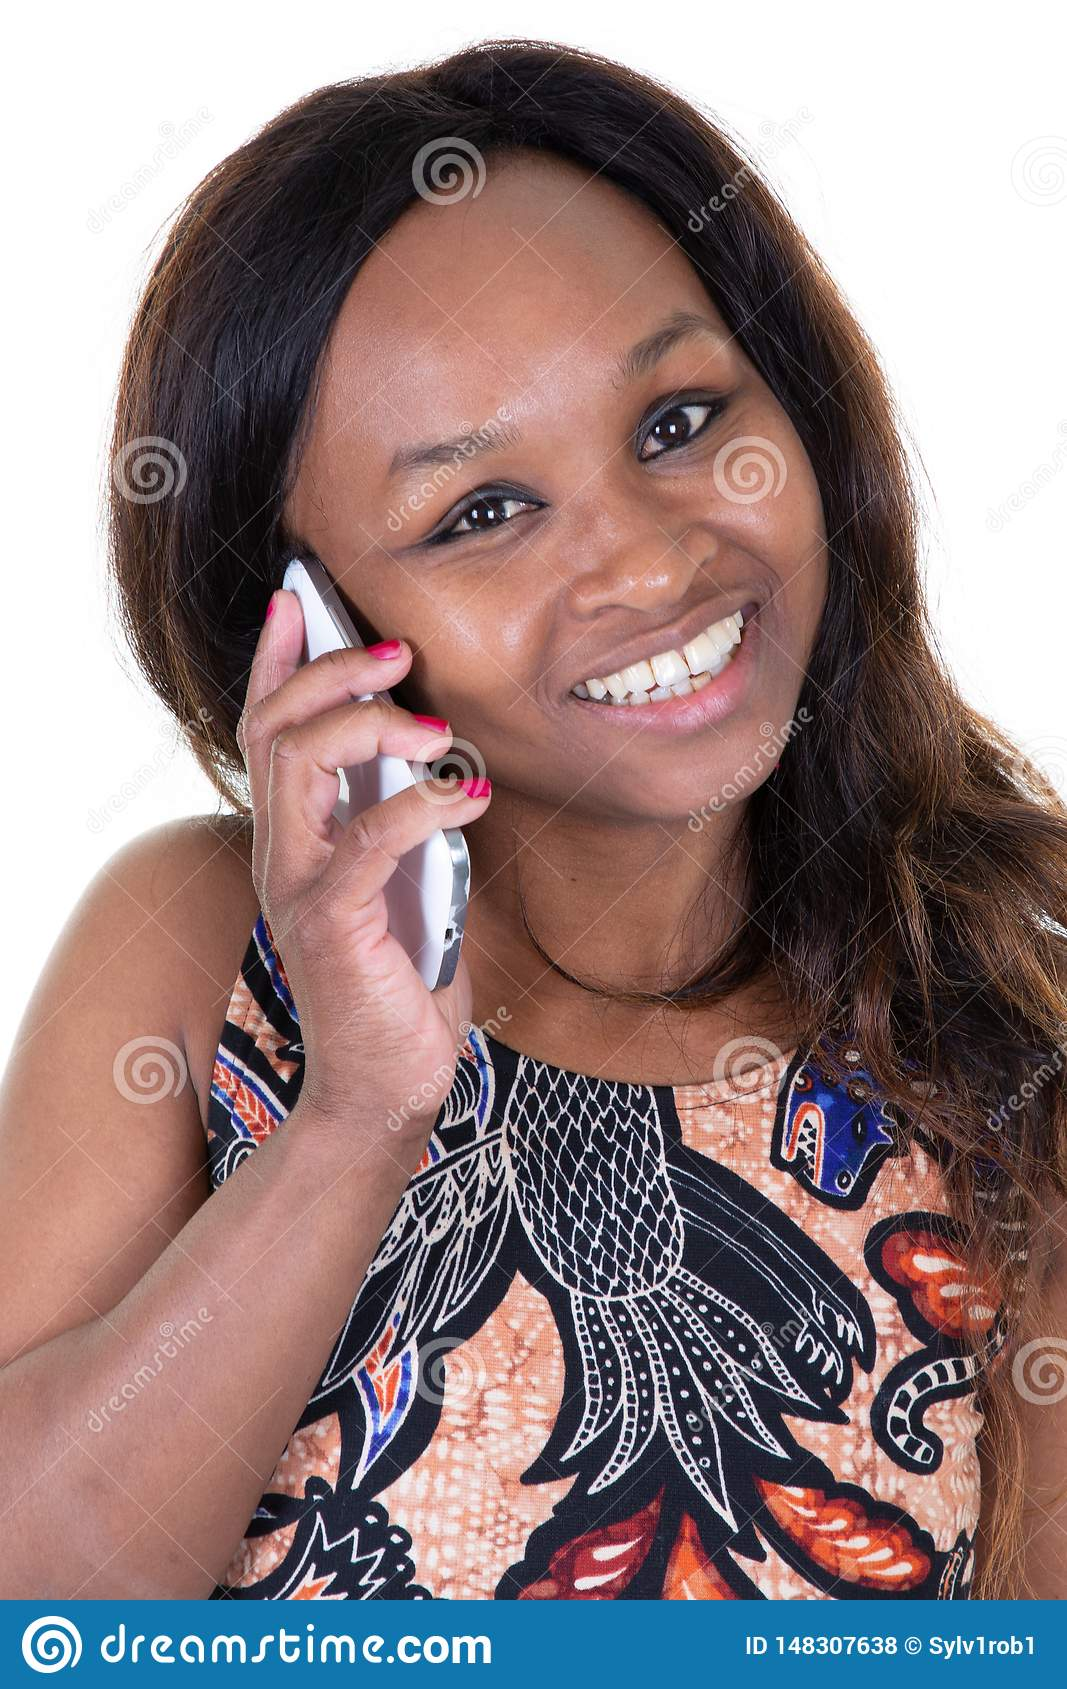phone: (278, 559, 479, 1006)
talk: (232, 289, 817, 1187)
